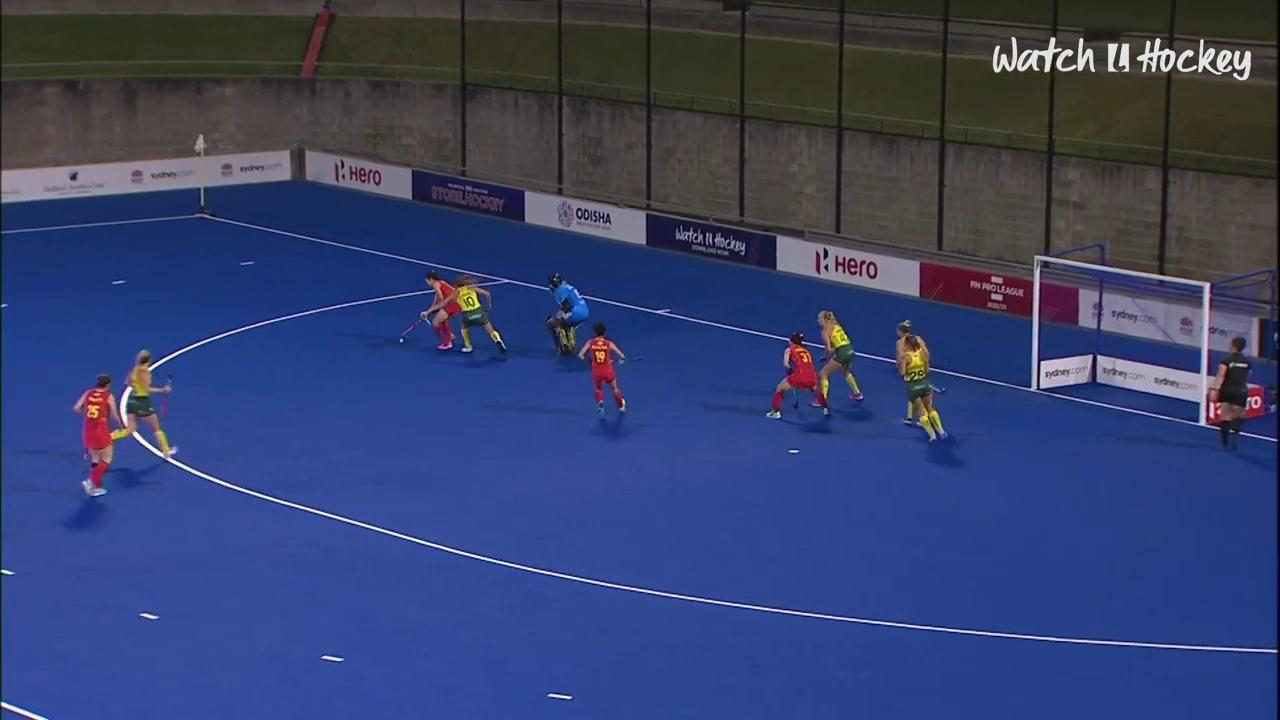ball: (394, 328, 412, 352)
